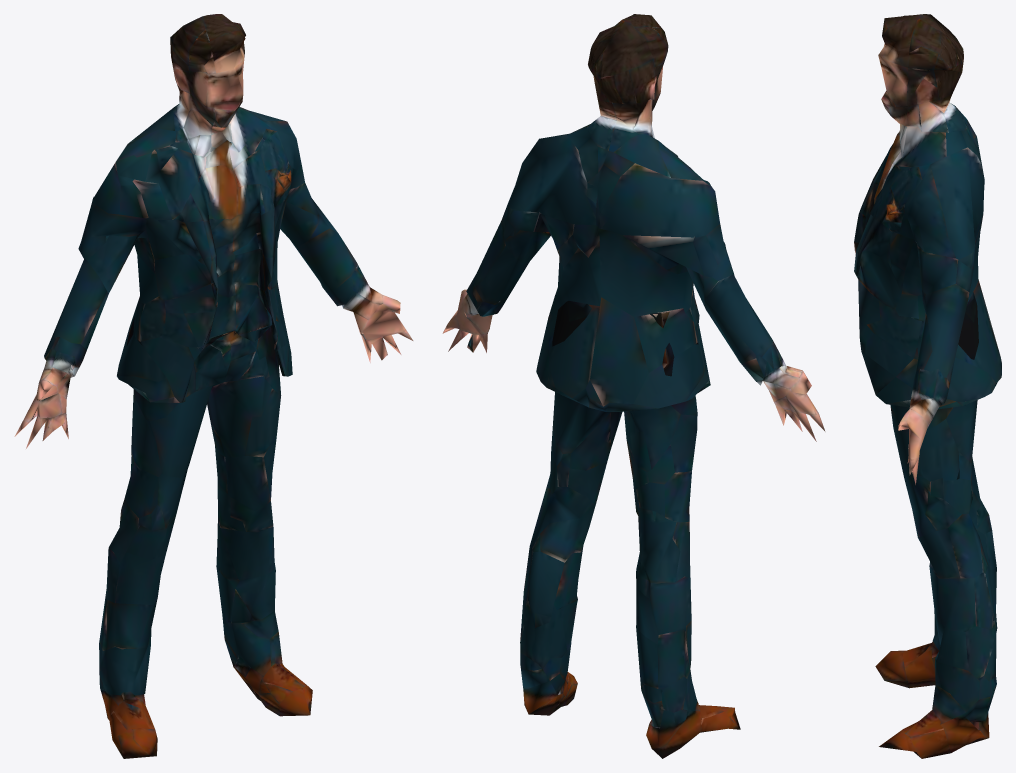
The model's file is businessman.glb.
3 renders of one model, left to right at view 1: azimuth 30°, elevation 25°; view 2: azimuth 150°, elevation 25°; view 3: azimuth 270°, elevation 25°, orthographic. The views are drawn at different scales.
Visible parts, largest first — view 1: businessman; view 2: businessman; view 3: businessman.
Boxes of the visible parts, x1,y1,x2,y2 form: businessman: (14,14,413,758); businessman: (442,14,825,758); businessman: (854,14,1001,758).
Size of the model in its own units: 1.05 by 1.8 by 0.3436.
1 material, 1 textured.
